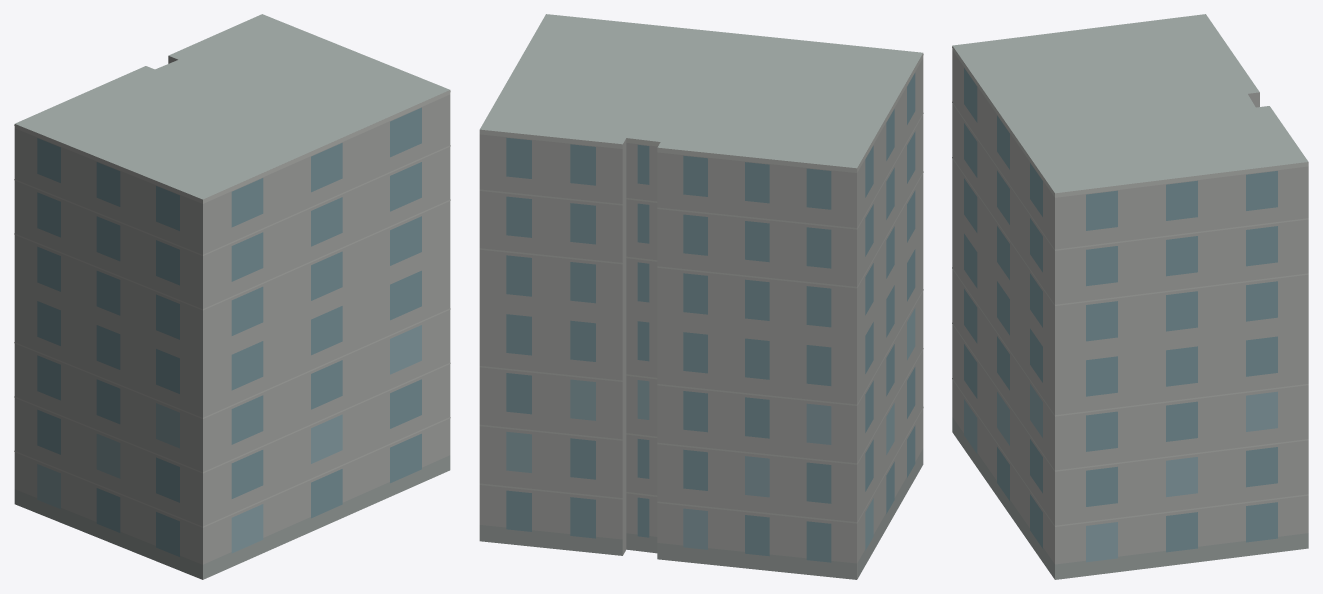
The model's file is survey-upis-32709094.glb.
The picture shows the model from 3 angles, left to right: view 1: azimuth 30°, elevation 25°; view 2: azimuth 150°, elevation 25°; view 3: azimuth 270°, elevation 25°; orthographic projection. The views are drawn at different scales.
Visible parts, largest first — view 1: survey-upis-32709094.tmp; view 2: survey-upis-32709094.tmp; view 3: survey-upis-32709094.tmp.
Part boxes in pixels (x1,y1,x2,y2): survey-upis-32709094.tmp: (14,14,450,579); survey-upis-32709094.tmp: (479,14,923,579); survey-upis-32709094.tmp: (952,14,1308,579).
Bounding box in the file's own units: 20.82 × 20.9 × 17.48.
